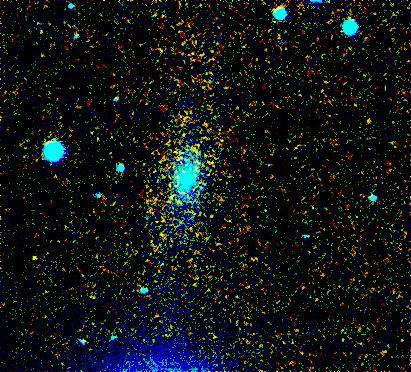star: (29, 244, 59, 274)
